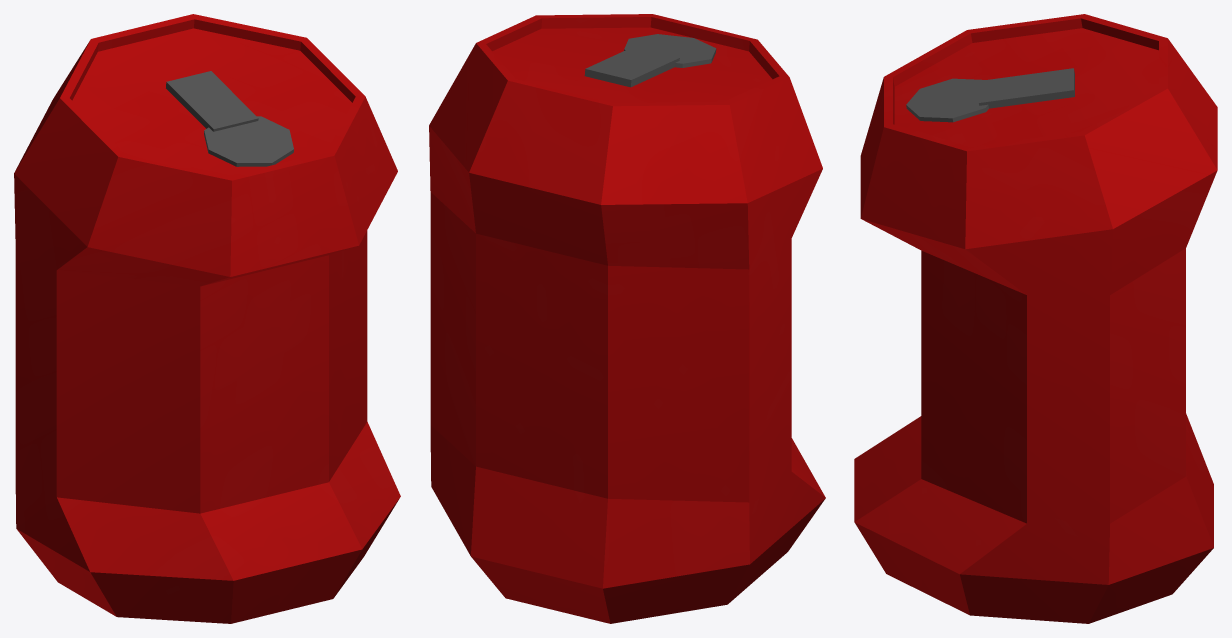
Rendered from Bottle_red_2.fbx.
3 views of the same model, side by side, from view 1: azimuth 30°, elevation 25°; view 2: azimuth 150°, elevation 25°; view 3: azimuth 270°, elevation 25° (orthographic). The views are drawn at different scales.
Visible parts, largest first — view 1: Bottle_red_wrinkled; view 2: Bottle_red_wrinkled; view 3: Bottle_red_wrinkled.
Boxes of the visible parts, x1=… form: Bottle_red_wrinkled: x1=14, y1=14, x2=400, y2=623; Bottle_red_wrinkled: x1=429, y1=14, x2=825, y2=623; Bottle_red_wrinkled: x1=854, y1=14, x2=1217, y2=623.
Bounding box in the file's own units: 5.15 × 7.96 × 5.18.
